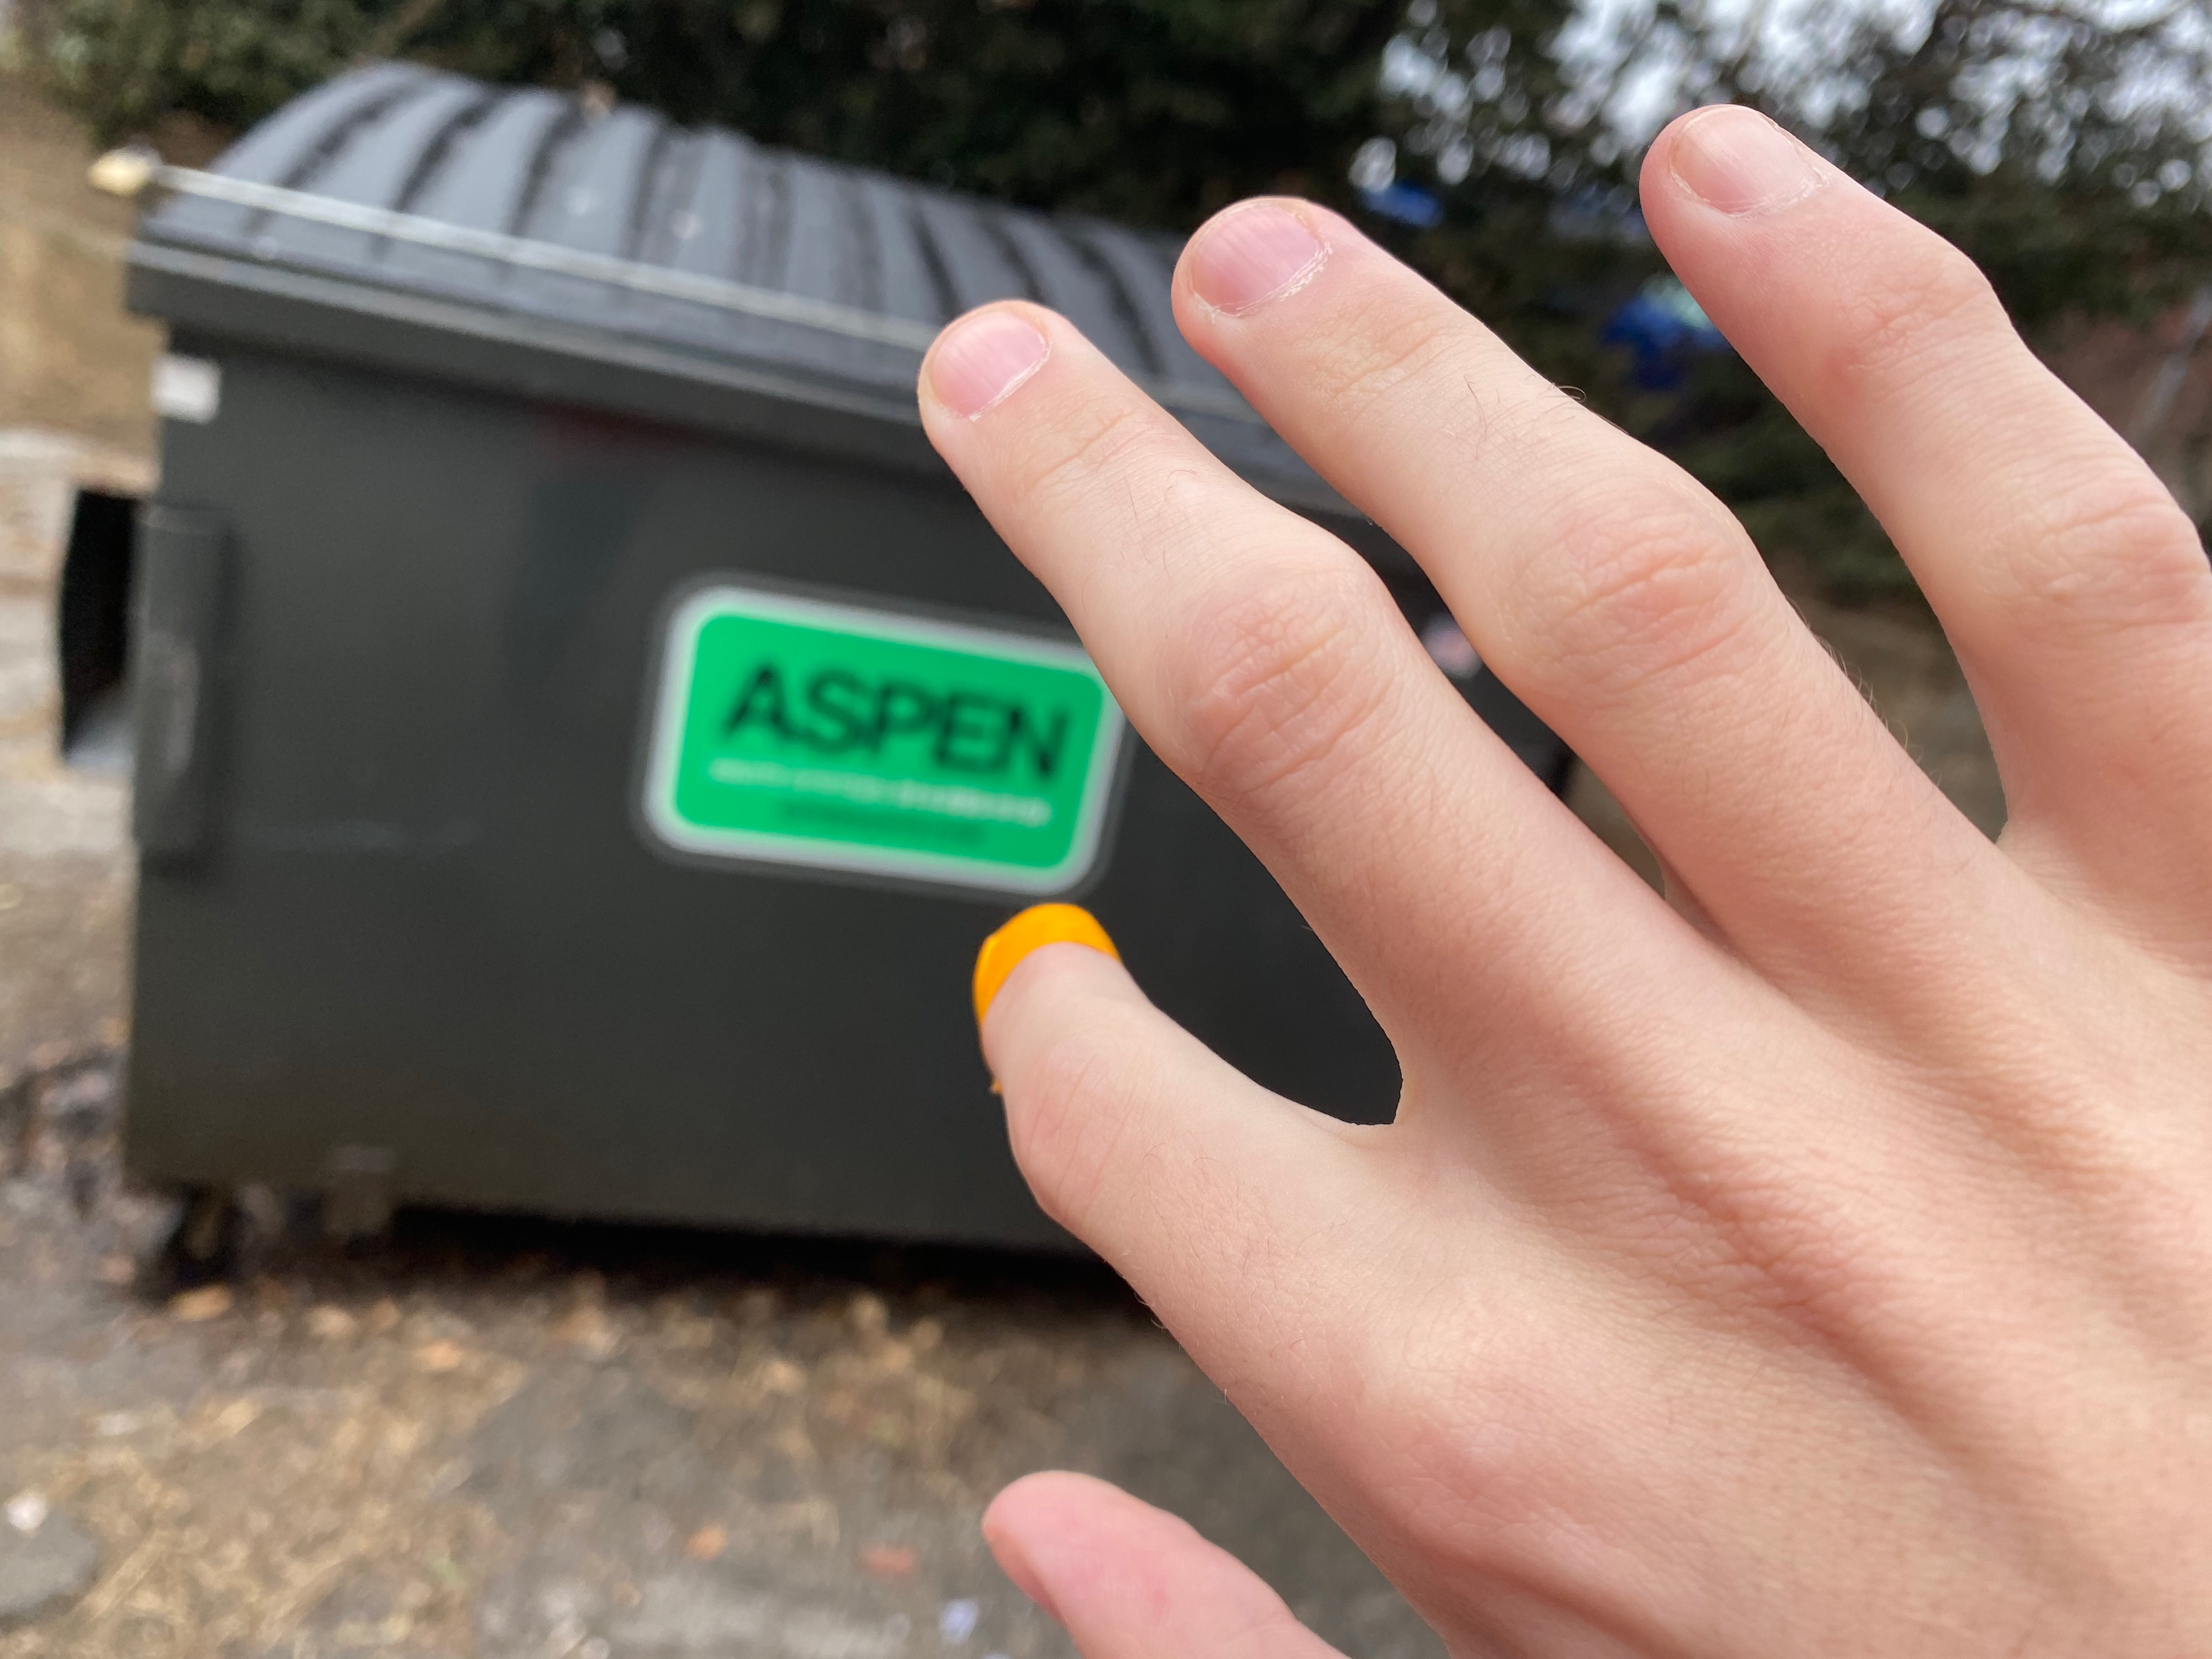fingertip: (956, 890, 1158, 1053)
